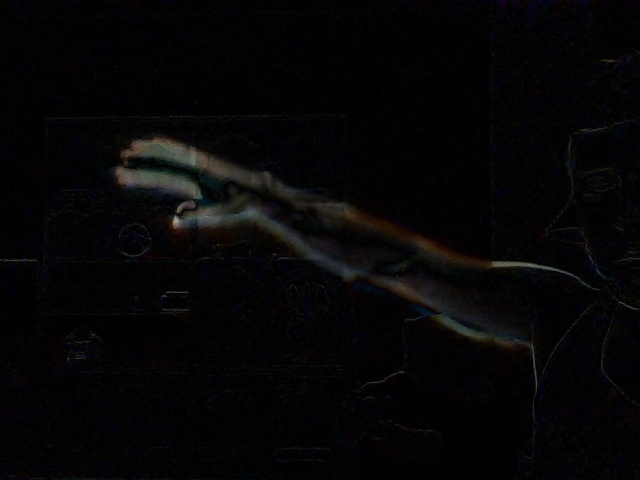hand_pa: (111, 124, 261, 226)
